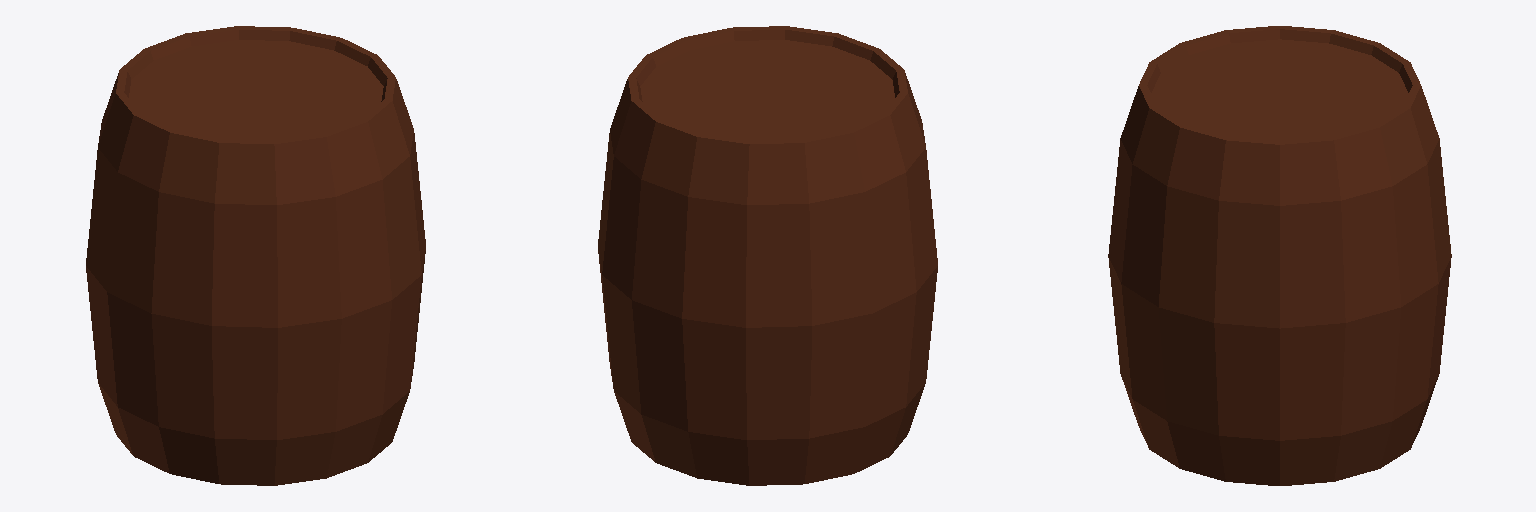
File: barrel.obj
The picture shows the model from 3 angles: view 1: azimuth 30°, elevation 25°; view 2: azimuth 150°, elevation 25°; view 3: azimuth 270°, elevation 25°; orthographic projection.
Parts seen in each view (by area): view 1: Barrel1; view 2: Barrel1; view 3: Barrel1.
Boxes of the visible parts, <box> form: Barrel1: <box>86,26,425,485</box>; Barrel1: <box>598,26,937,485</box>; Barrel1: <box>1108,26,1451,485</box>.
Size of the model in its own units: 0.7291 by 0.8 by 0.7291.